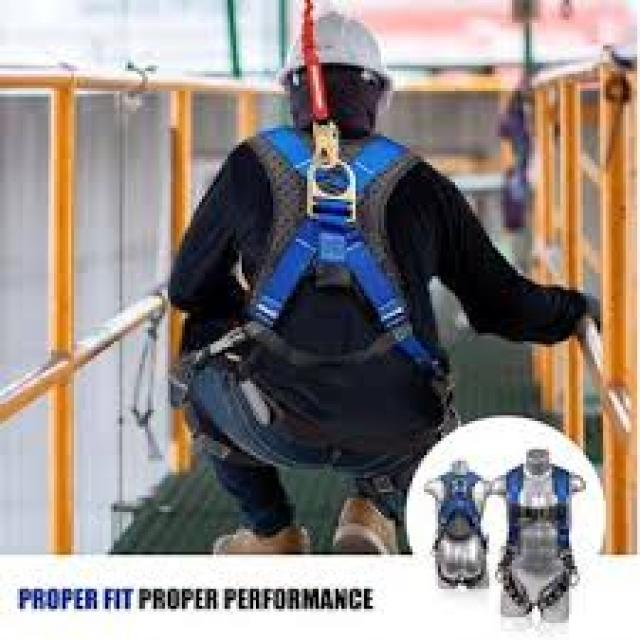harness: (296, 0, 353, 179)
